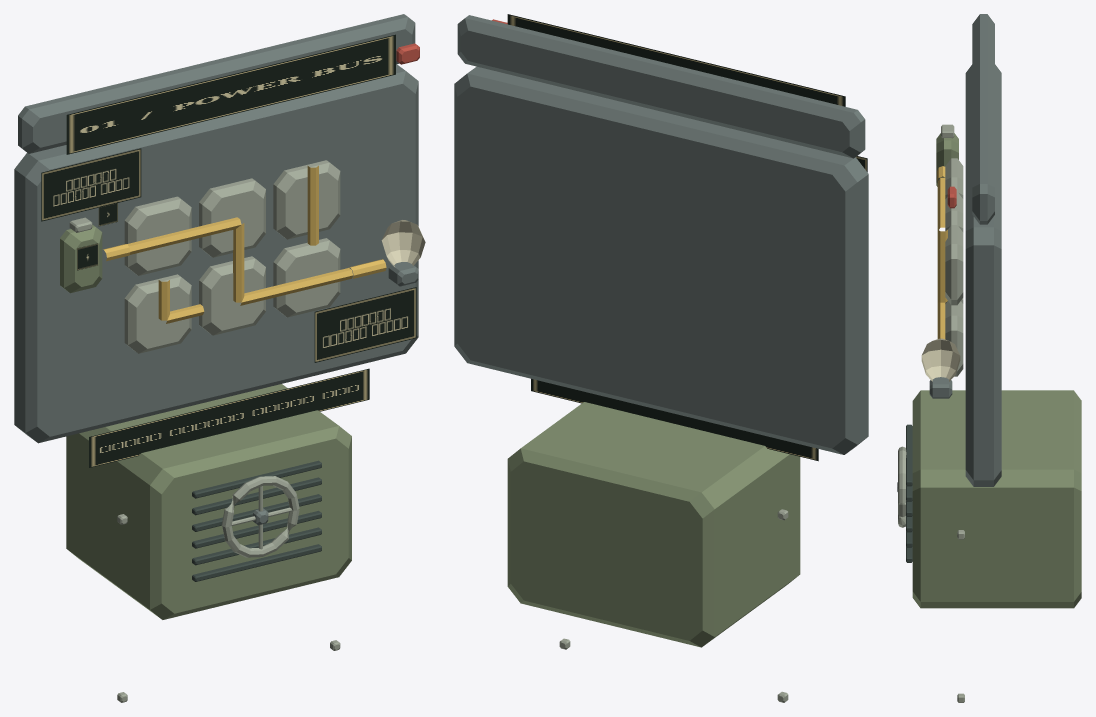
File: power-station.glb
The picture shows the model from 3 angles, left to right: view 1: azimuth 30°, elevation 25°; view 2: azimuth 150°, elevation 25°; view 3: azimuth 270°, elevation 25°; orthographic projection. The views are drawn at different scales.
Parts seen in each view (by area): view 1: PowerCabinet, Generator, PowerTitle, PowerHeader, PowerInstruction, GeneratorVent (×6), OutputLabel, SourceLabel, Module_3, Module_2, Module_1, Module_0 (+5 smaller); view 2: PowerCabinet, Generator, PowerHeader, PowerTitle, PowerInstruction; view 3: Generator, PowerCabinet, PowerHeader, Module_2, OutputBulb, Module_5, SourceBattery, GeneratorRotor_rim, Module_0, Module_1, BulbSocket, GeneratorVent (+2 smaller).
Part boxes in pixels (x1,y1,x2,y2): PowerCabinet: (14, 64, 418, 443); Generator: (66, 384, 351, 619); PowerTitle: (66, 34, 395, 154); PowerHeader: (18, 14, 415, 153); PowerInstruction: (89, 368, 369, 467); GeneratorVent (×6): (192, 460, 321, 581); OutputLabel: (314, 287, 416, 362); SourceLabel: (41, 148, 141, 221); Module_3: (124, 274, 191, 353); Module_2: (273, 160, 340, 239); Module_1: (199, 178, 265, 257); Module_0: (124, 196, 191, 275); PowerCabinet: (454, 66, 868, 454); Generator: (507, 402, 800, 647); PowerHeader: (457, 15, 865, 158); PowerTitle: (507, 14, 845, 106); PowerInstruction: (531, 379, 818, 461); Generator: (912, 390, 1081, 608); PowerCabinet: (965, 64, 1001, 486); PowerHeader: (972, 14, 994, 224); Module_2: (945, 225, 963, 305); OutputBulb: (921, 338, 960, 381); Module_5: (945, 301, 963, 376); SourceBattery: (936, 133, 958, 186); GeneratorRotor_rim: (898, 446, 906, 527); Module_0: (945, 158, 963, 198); Module_1: (945, 191, 963, 232); BulbSocket: (929, 377, 952, 398); GeneratorVent: (906, 424, 912, 486).
Bounding box in the file's own units: 1.85 × 2.72 × 0.819.
Materials: 13 (6 with a texture image).
